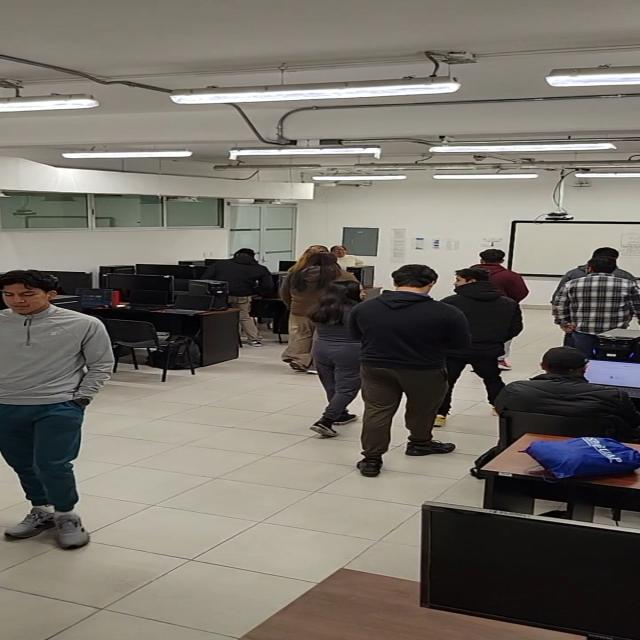Persona: (0, 275, 110, 547), (376, 266, 448, 452), (446, 266, 514, 408), (316, 276, 365, 427), (555, 262, 640, 339), (297, 250, 341, 378), (471, 241, 532, 297)
